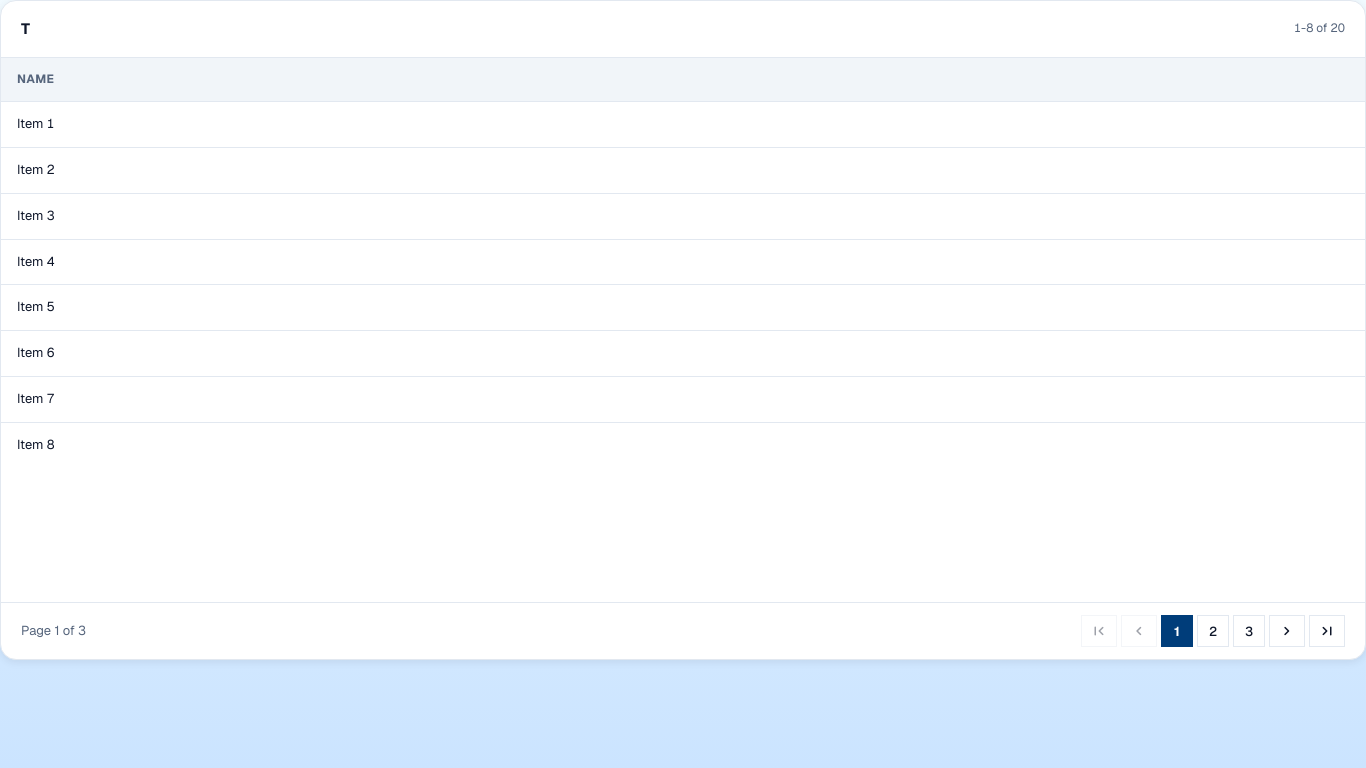
Test: DataTable server paging › leaves the old behaviour alone when no total is passed
Check: the text "1-8 of 20" is shown, box 1294,19 -> 1345,39
Click the button named "Next" at (1287,631), box 1269,615 -> 1305,647
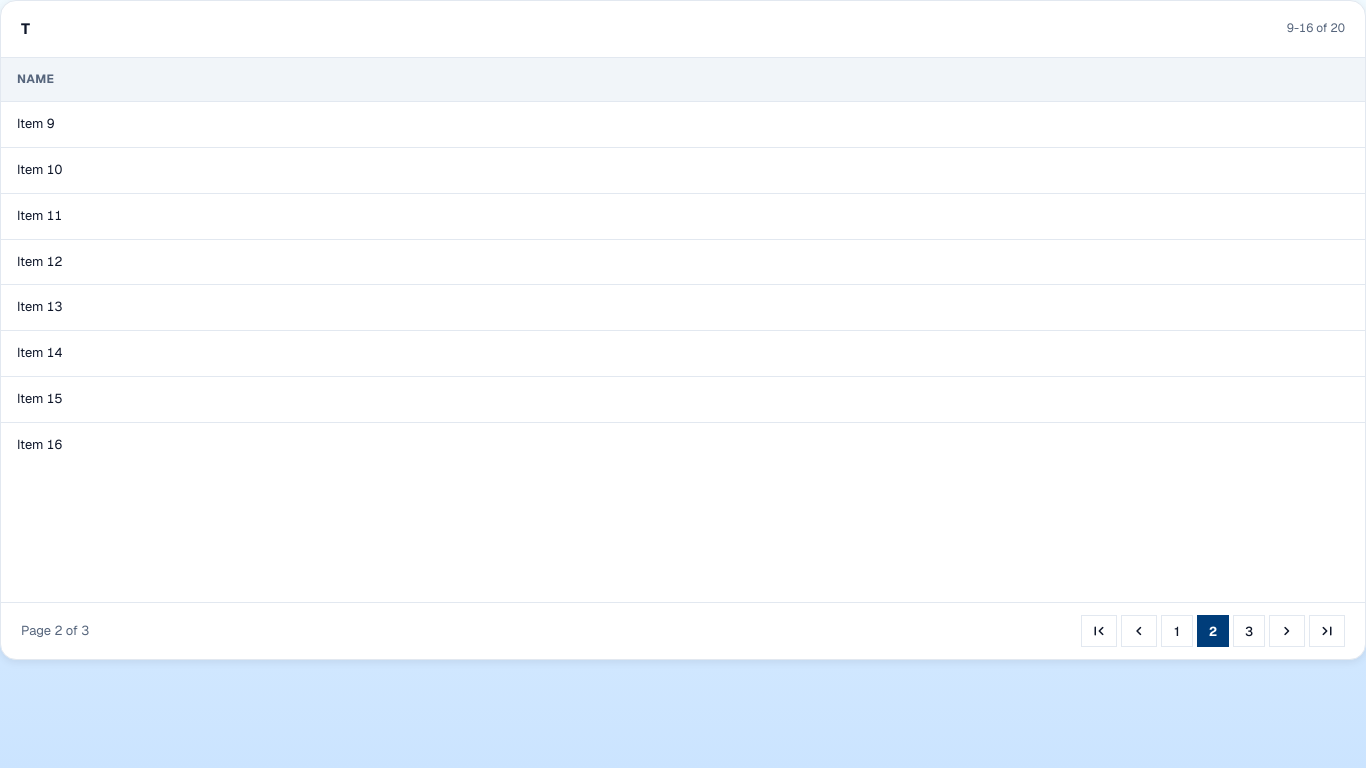
Check: the text "9-16 of 20" is shown, box 1287,19 -> 1345,39
